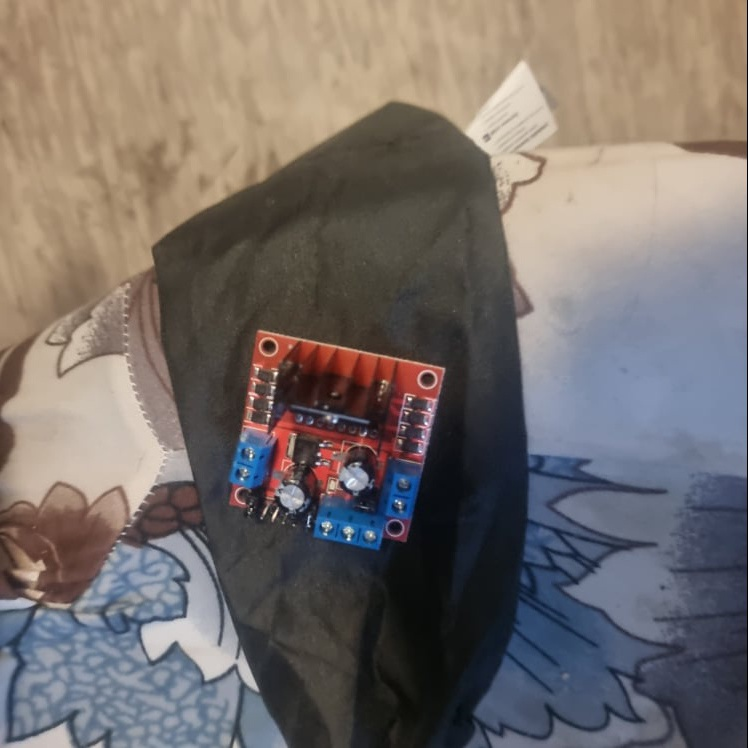MOTOR: (225, 323, 453, 554)
